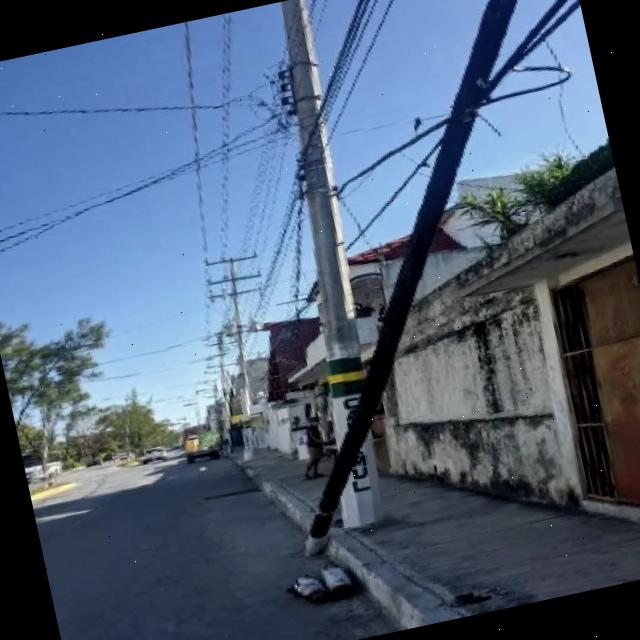Broken Pole: (304, 0, 519, 556)
